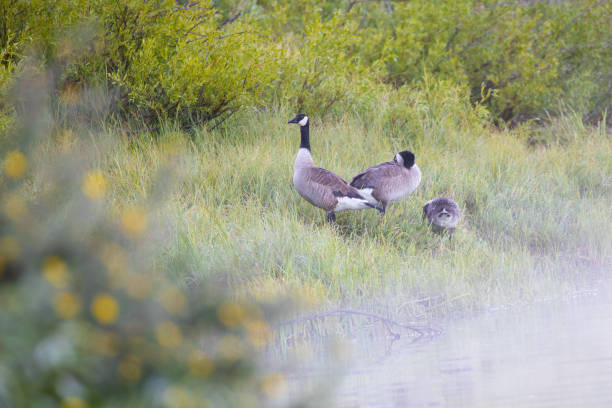goose: (287, 113, 385, 225), (347, 149, 423, 207)
